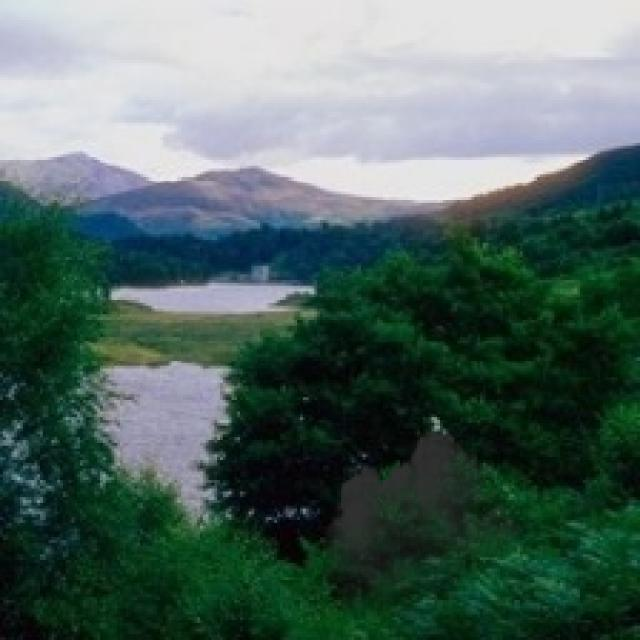Smoke: (320, 422, 526, 628)
